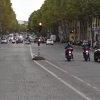Motorcycle: (56, 40, 100, 68)
